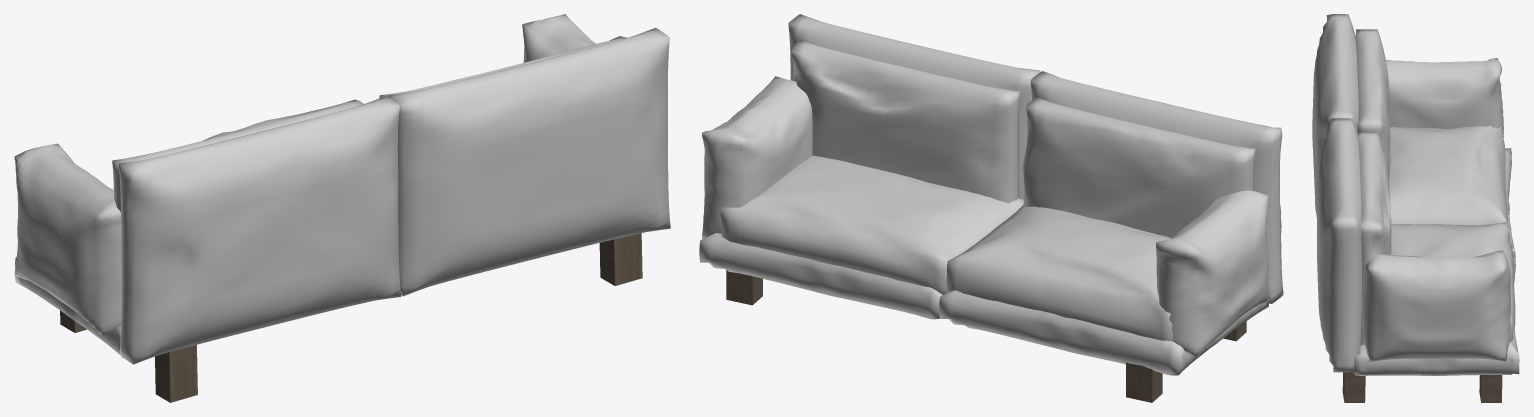
Rendered from SofaGrande.fbx.
3 renders of one model, left to right at view 1: azimuth 30°, elevation 25°; view 2: azimuth 150°, elevation 25°; view 3: azimuth 270°, elevation 25°, orthographic. The views are drawn at different scales.
Parts seen in each view (by area): view 1: Cubo.039, Cubo.040, Cubo.045, Cubo.047, Cubo.046, Cubo.048, Cubo.050, Cubo.038, Cubo.053; view 2: Cubo.053, Cubo.052, Cubo.046, Cubo.042, Cubo.045, Cubo.047, Cubo.039, Cubo.038, Cubo.037, Cubo.040, Cubo.054, Cubo.051; view 3: Cubo.047, Cubo.042, Cubo.040, Cubo.045, Cubo.039, Cubo.052, Cubo.053, Cubo.046, Cubo.037, Cubo.050, Cubo.051, Cubo.038.
Boxes of the visible parts, <box> form: Cubo.039: <box>118,96,401,364</box>; Cubo.040: <box>388,27,670,296</box>; Cubo.045: <box>14,143,121,336</box>; Cubo.047: <box>522,14,595,62</box>; Cubo.046: <box>112,99,363,212</box>; Cubo.048: <box>155,345,197,402</box>; Cubo.050: <box>599,233,642,285</box>; Cubo.038: <box>15,257,123,358</box>; Cubo.053: <box>379,36,627,97</box>; Cubo.053: <box>791,40,1020,203</box>; Cubo.052: <box>720,155,1023,295</box>; Cubo.046: <box>1022,97,1255,237</box>; Cubo.042: <box>946,205,1172,341</box>; Cubo.045: <box>1156,190,1270,356</box>; Cubo.047: <box>701,76,812,238</box>; Cubo.039: <box>1030,71,1283,303</box>; Cubo.038: <box>939,290,1269,375</box>; Cubo.037: <box>699,233,942,319</box>; Cubo.040: <box>788,14,1040,199</box>; Cubo.054: <box>1126,362,1162,402</box>; Cubo.051: <box>726,270,762,305</box>; Cubo.047: <box>1362,250,1510,362</box>; Cubo.042: <box>1389,125,1508,227</box>; Cubo.040: <box>1317,118,1361,372</box>; Cubo.045: <box>1386,58,1503,136</box>; Cubo.039: <box>1312,14,1358,221</box>; Cubo.052: <box>1391,222,1515,342</box>; Cubo.053: <box>1357,131,1391,345</box>; Cubo.046: <box>1355,29,1390,185</box>; Cubo.037: <box>1354,251,1519,375</box>; Cubo.050: <box>1342,372,1365,402</box>; Cubo.051: <box>1479,374,1502,402</box>; Cubo.038: <box>1505,148,1515,260</box>.
Bounding box in the file's own units: 220 × 88.39 × 86.66.
